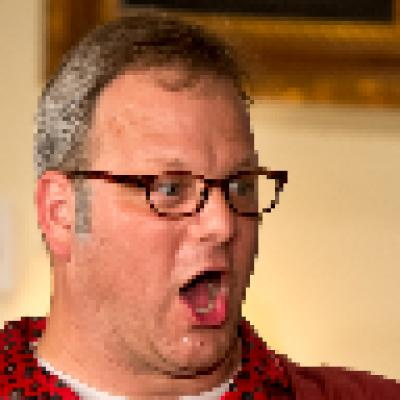surprise: (78, 65, 258, 371)
